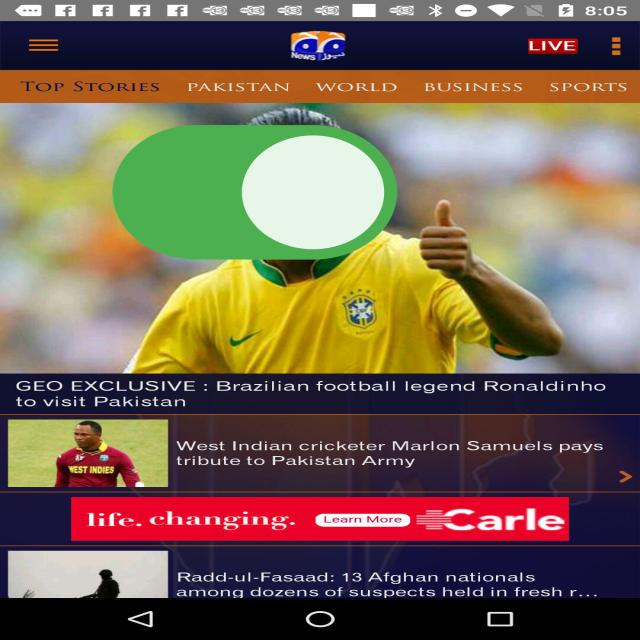social proof: (100, 73, 410, 322)
